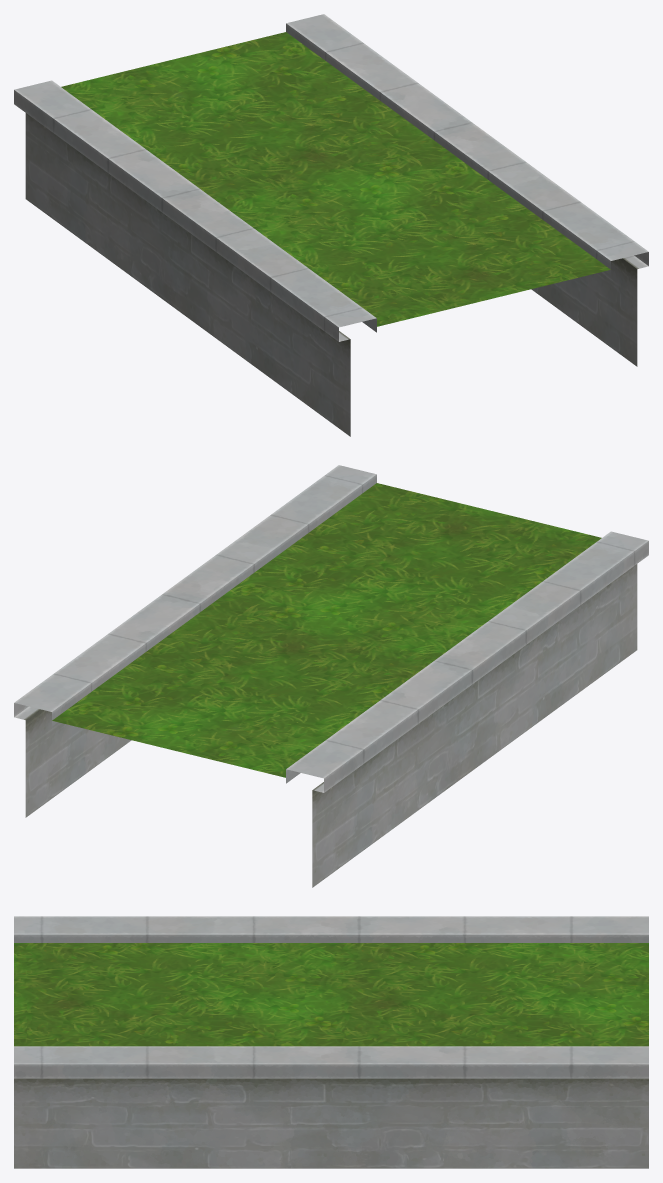
Rendered from flowerBed_high_02.fbx.
3 renders of one model, top to bottom at view 1: azimuth 30°, elevation 25°; view 2: azimuth 150°, elevation 25°; view 3: azimuth 270°, elevation 25°, orthographic. The views are drawn at different scales.
Parts seen in each view (by area): view 1: flowerBed_high_02; view 2: flowerBed_high_02; view 3: flowerBed_high_02.
Boxes of the visible parts, x1=… form: flowerBed_high_02: x1=14, y1=14, x2=648, y2=436; flowerBed_high_02: x1=14, y1=465, x2=648, y2=887; flowerBed_high_02: x1=14, y1=916, x2=648, y2=1168.
Bounding box in the file's own units: 165 × 57.19 × 300.
